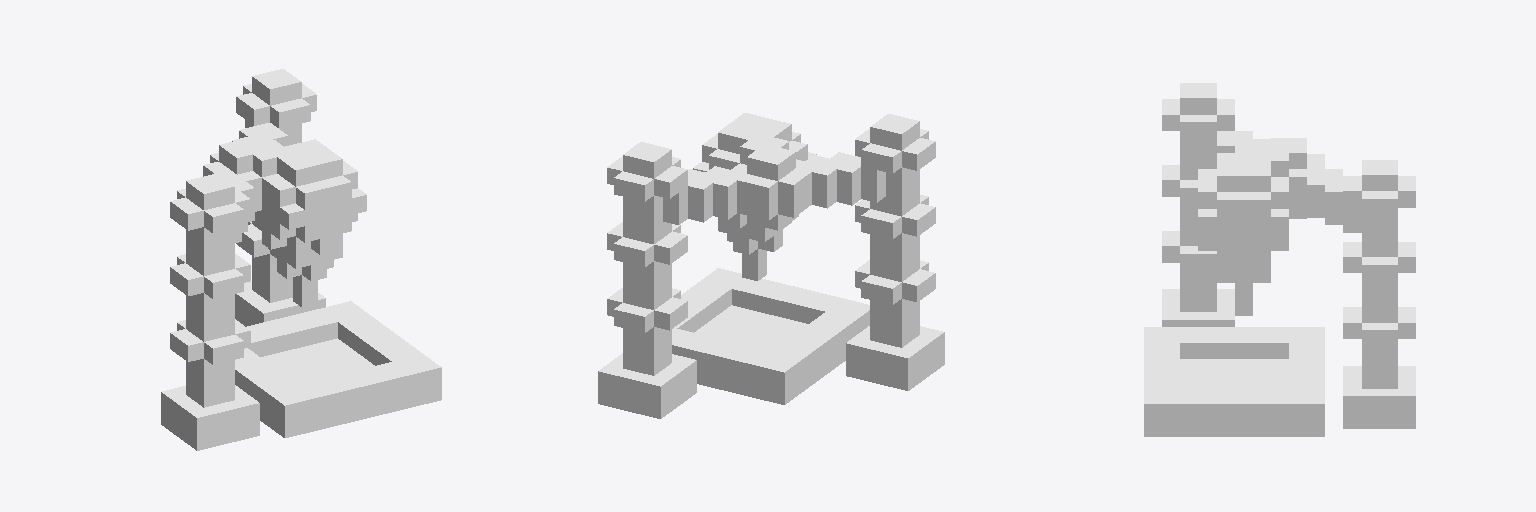
The model's file is BuildingMine.obj.
3 renders of one model, left to right at view 1: azimuth 30°, elevation 25°; view 2: azimuth 150°, elevation 25°; view 3: azimuth 270°, elevation 25°, orthographic.
Parts seen in each view (by area): view 1: object 1; view 2: object 1; view 3: object 1.
Boxes of the visible parts, <box> form: object 1: <box>161,69,441,450</box>; object 1: <box>598,113,944,418</box>; object 1: <box>1144,83,1415,436</box>.
Size of the model in its own units: 1.5 by 1.5 by 1.5.